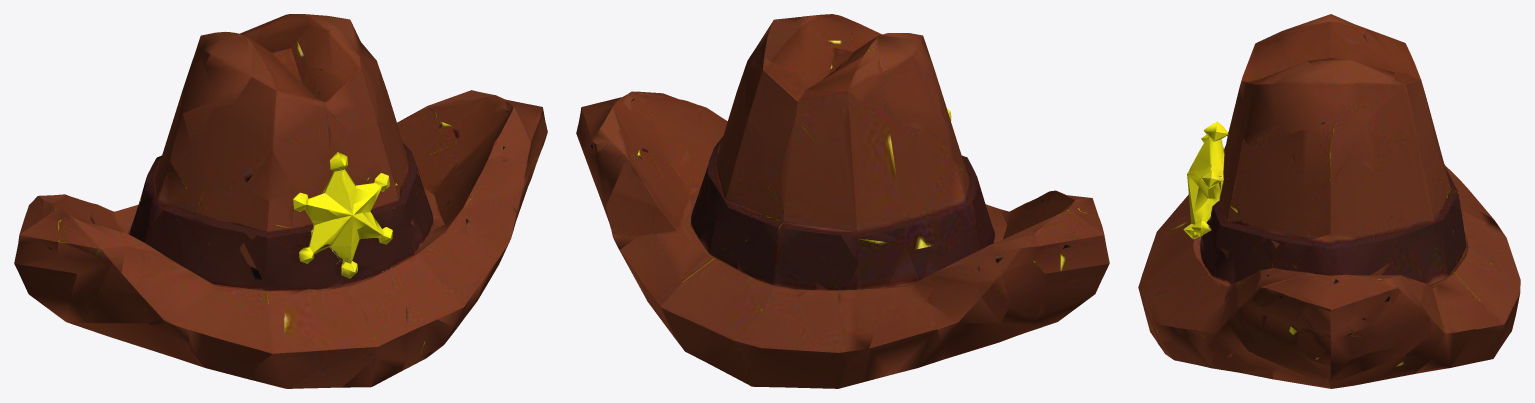
The model's file is cos-cowboy.glb.
3 views of the same model, side by side, from view 1: azimuth 30°, elevation 25°; view 2: azimuth 150°, elevation 25°; view 3: azimuth 270°, elevation 25° (orthographic).
Parts seen in each view (by area): view 1: output_unwrapped; view 2: output_unwrapped; view 3: output_unwrapped.
Boxes of the visible parts, x1,y1,x2,y2 form: output_unwrapped: [14, 14, 547, 388]; output_unwrapped: [576, 14, 1109, 388]; output_unwrapped: [1138, 14, 1520, 388].
Size of the model in its own units: 1.9 by 1 by 1.18.
Materials: 1 (1 with a texture image).
